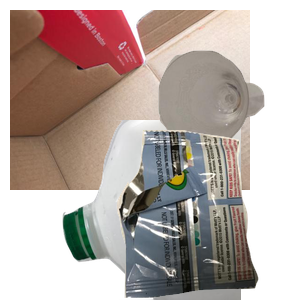cardboard: (10, 10, 250, 190)
glass: (156, 48, 300, 189)
plastic: (60, 120, 300, 300)
trash: (114, 130, 300, 300)
